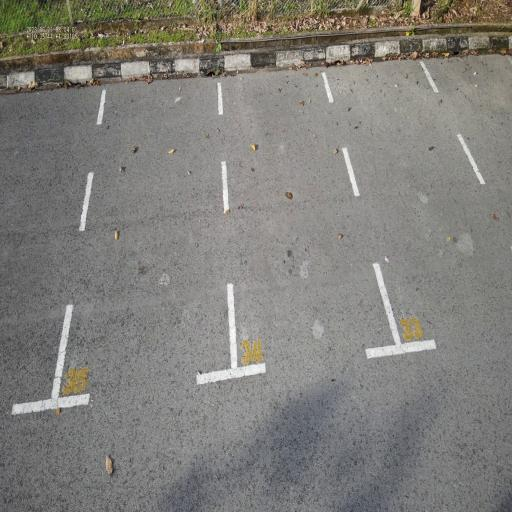Empty: (46, 67, 243, 418), (212, 62, 409, 383)
